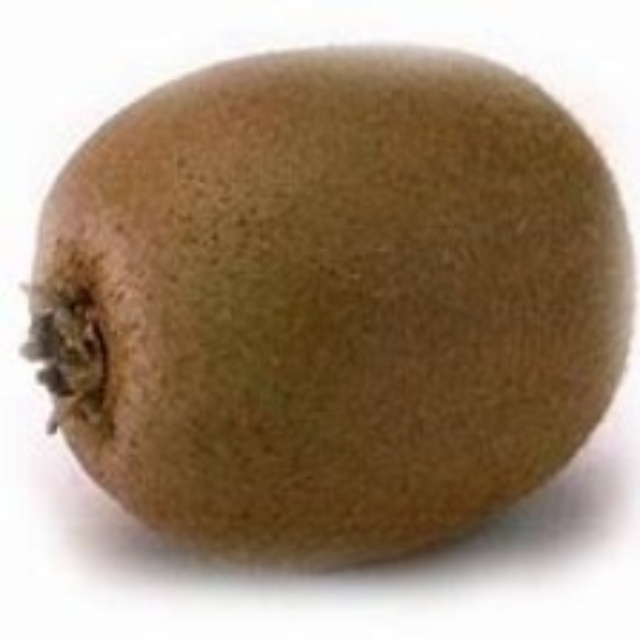kiwi: (25, 39, 638, 573)
